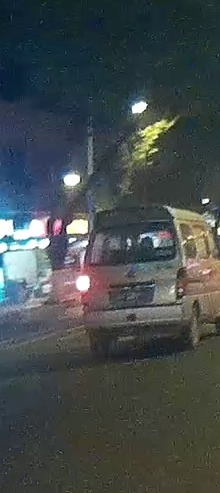L_light: (80, 275, 90, 313)
R_light: (175, 266, 189, 304)
T_light: (120, 222, 138, 228)
night-left: (78, 205, 191, 355)
